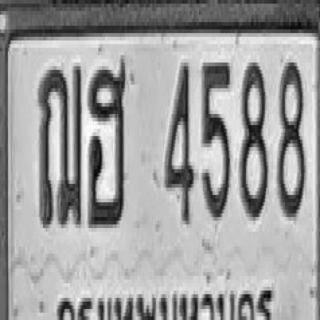A12: (38, 62, 82, 228)
A44: (88, 59, 126, 228)
N04: (164, 59, 194, 224)
N05: (201, 59, 230, 221)
N08: (239, 59, 268, 217), (277, 59, 305, 217)
